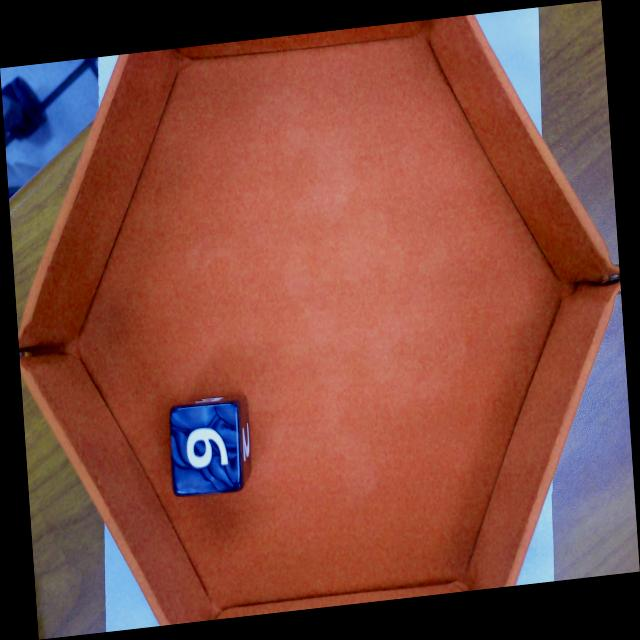dice: (168, 399, 244, 499)
